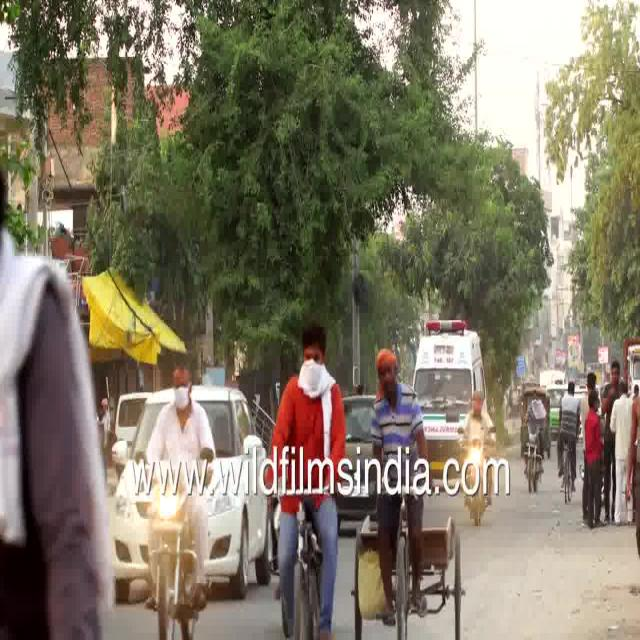ambulance: (407, 319, 498, 402)
